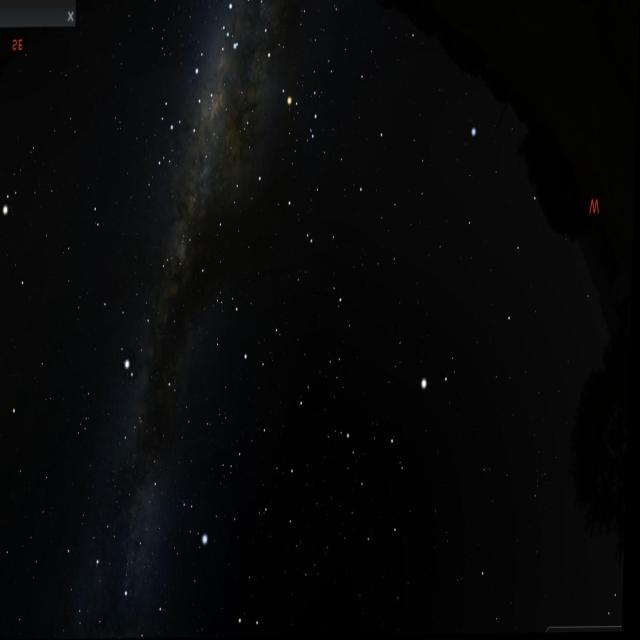aquila: (100, 250, 184, 403)
bootes: (344, 344, 458, 566)
cygnus: (90, 460, 177, 638)
lyra: (179, 495, 219, 553)
sagittarius: (150, 38, 223, 151)
scorpius: (218, 0, 334, 163)
